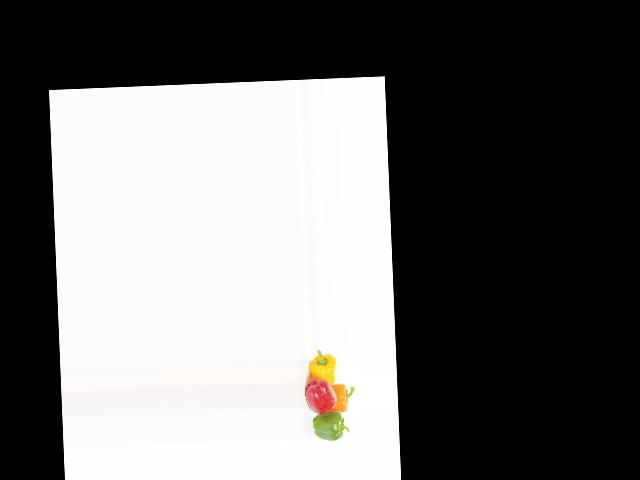bell_pepper: (307, 409, 347, 441)
